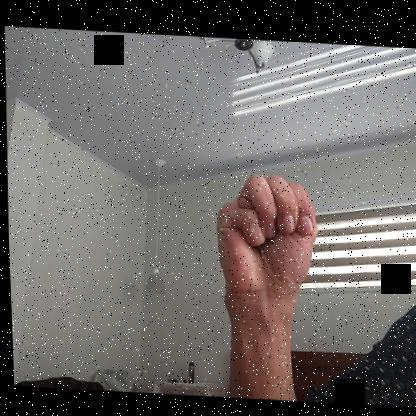M: (210, 166, 321, 300)
